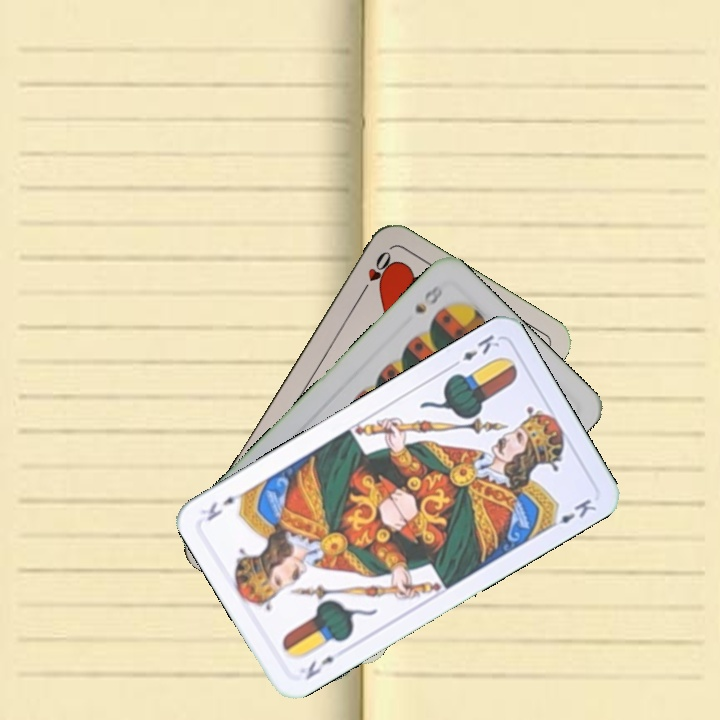EK: (447, 330, 503, 371), (301, 652, 337, 683)
HO: (356, 247, 396, 299)
S8: (410, 280, 445, 317)
